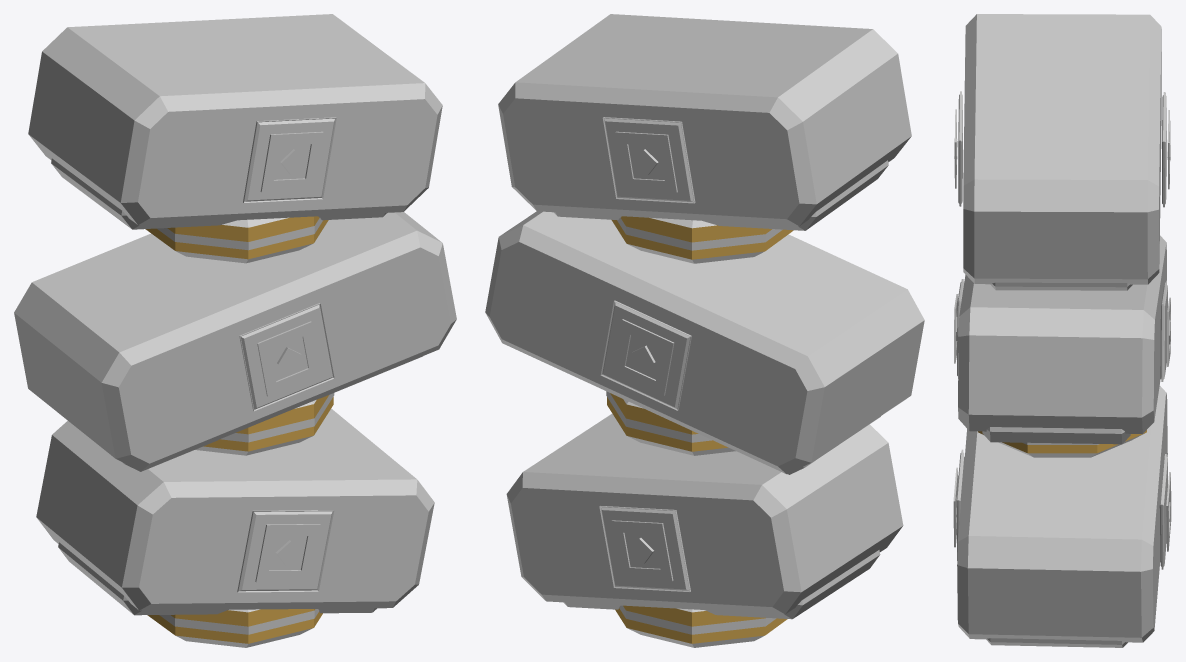
File: wand_motion_24.obj
3 views of the same model, side by side, from view 1: azimuth 30°, elevation 25°; view 2: azimuth 150°, elevation 25°; view 3: azimuth 270°, elevation 25° (orthographic). The views are drawn at different scales.
Visible parts, largest first — view 1: chamfered_seal_tablet_1, chamfered_seal_tablet_2, chamfered_seal_tablet_0, inset_rune_socket_1, inset_rune_socket_3, inset_rune_socket_5, tablet_spacer_2, tablet_spacer_0, tablet_spacer_1, seal_shadow_base_2, seal_shadow_base_0, tablet_spacer_dark_seam_2 (+2 smaller); view 2: chamfered_seal_tablet_1, chamfered_seal_tablet_2, chamfered_seal_tablet_0, tablet_spacer_2, inset_rune_socket_4, inset_rune_socket_2, inset_rune_socket_0, tablet_spacer_0, tablet_spacer_1, seal_shadow_base_0, seal_shadow_base_2, tablet_spacer_dark_seam_2 (+2 smaller); view 3: chamfered_seal_tablet_2, chamfered_seal_tablet_0, chamfered_seal_tablet_1, seal_shadow_base_1, tablet_spacer_1, seal_shadow_base_2, seal_shadow_base_0, inset_rune_socket_0, inset_rune_socket_2, inset_rune_socket_5, inset_rune_socket_4, inset_rune_socket_1.
Boxes of the visible parts, x1,y1,x2,y2 form: chamfered_seal_tablet_1: (14, 212, 456, 471); chamfered_seal_tablet_2: (28, 14, 442, 225); chamfered_seal_tablet_0: (36, 408, 434, 610); inset_rune_socket_1: (237, 510, 334, 592); inset_rune_socket_3: (239, 303, 334, 411); inset_rune_socket_5: (243, 117, 336, 202); tablet_spacer_2: (145, 216, 328, 263); tablet_spacer_0: (147, 609, 322, 647); tablet_spacer_1: (195, 395, 333, 455); seal_shadow_base_2: (51, 158, 386, 229); seal_shadow_base_0: (58, 542, 376, 615); tablet_spacer_dark_seam_2: (157, 218, 322, 250); chamfered_seal_tablet_1: (485, 211, 924, 474); chamfered_seal_tablet_2: (498, 14, 911, 226); chamfered_seal_tablet_0: (506, 413, 903, 614); tablet_spacer_2: (611, 216, 793, 263); inset_rune_socket_4: (602, 117, 695, 203); inset_rune_socket_2: (600, 300, 691, 410); inset_rune_socket_0: (599, 506, 690, 591); tablet_spacer_0: (615, 605, 787, 647); tablet_spacer_1: (607, 393, 735, 455); seal_shadow_base_0: (563, 550, 880, 619); seal_shadow_base_2: (554, 160, 888, 230); tablet_spacer_dark_seam_2: (617, 217, 782, 250); chamfered_seal_tablet_2: (963, 14, 1161, 284); chamfered_seal_tablet_0: (957, 385, 1167, 642); chamfered_seal_tablet_1: (958, 235, 1166, 433); seal_shadow_base_1: (982, 427, 1130, 444); tablet_spacer_1: (978, 430, 1146, 457); seal_shadow_base_2: (990, 282, 1132, 290); seal_shadow_base_0: (986, 638, 1127, 647); inset_rune_socket_0: (1159, 454, 1167, 569); inset_rune_socket_2: (1160, 282, 1167, 381); inset_rune_socket_5: (958, 91, 962, 206); inset_rune_socket_4: (1162, 92, 1166, 207); inset_rune_socket_1: (956, 449, 964, 560).
Bounding box in the file's own units: 0.1986 × 0.3119 × 0.1148.
